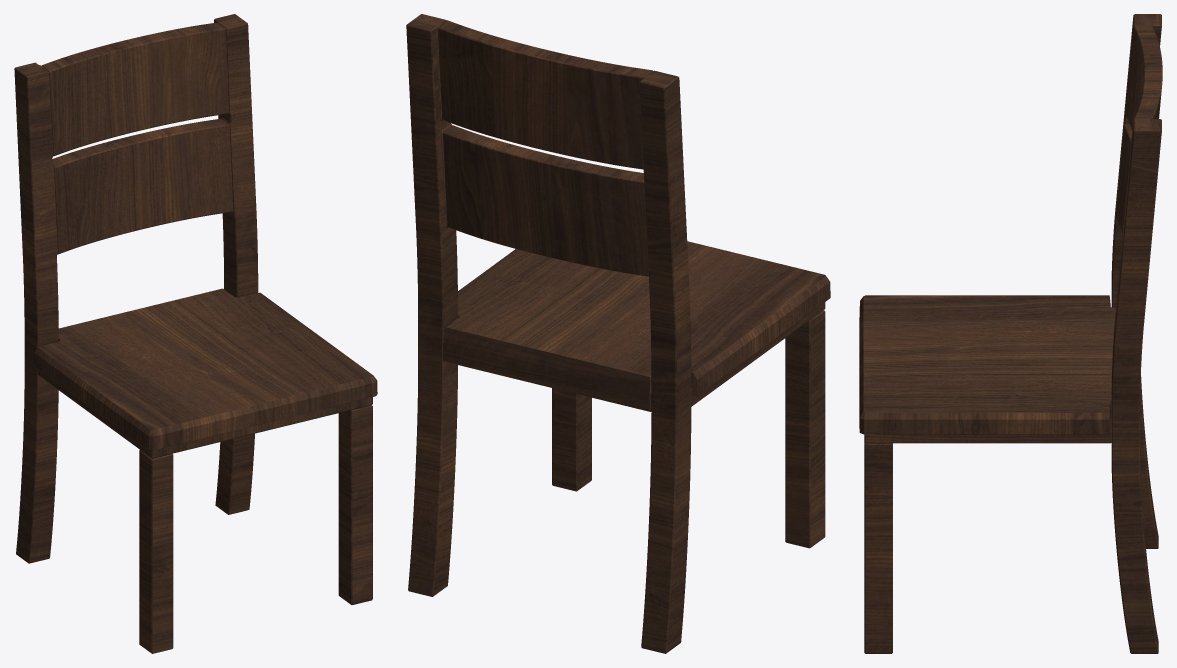
File: chair2.fbx
The picture shows the model from 3 angles, left to right: view 1: azimuth 30°, elevation 25°; view 2: azimuth 150°, elevation 25°; view 3: azimuth 270°, elevation 25°; orthographic projection. The views are drawn at different scales.
Visible parts, largest first — view 1: Dining Chair; view 2: Dining Chair; view 3: Dining Chair.
Part boxes in pixels (<box>): Dining Chair: <box>14,14,377,653</box>; Dining Chair: <box>406,14,830,653</box>; Dining Chair: <box>859,14,1162,653</box>.
Bounding box in the file's own units: 48.73 × 98.57 × 51.7.
1 material, 1 textured.
